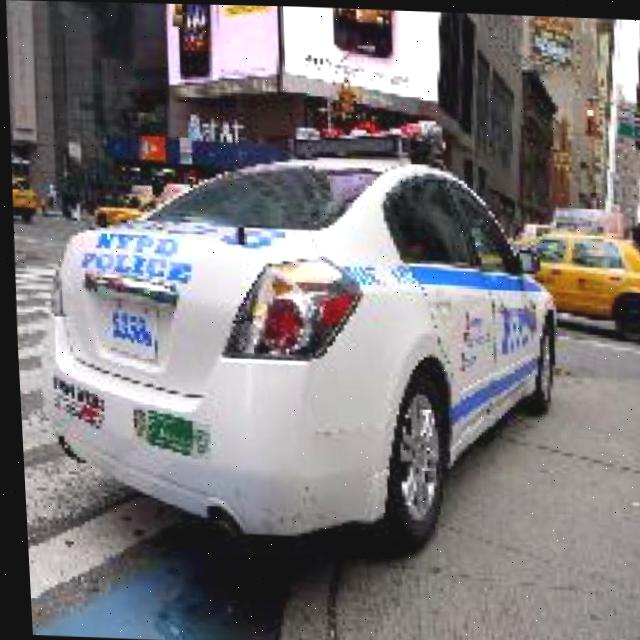emergency: (30, 141, 567, 558)
